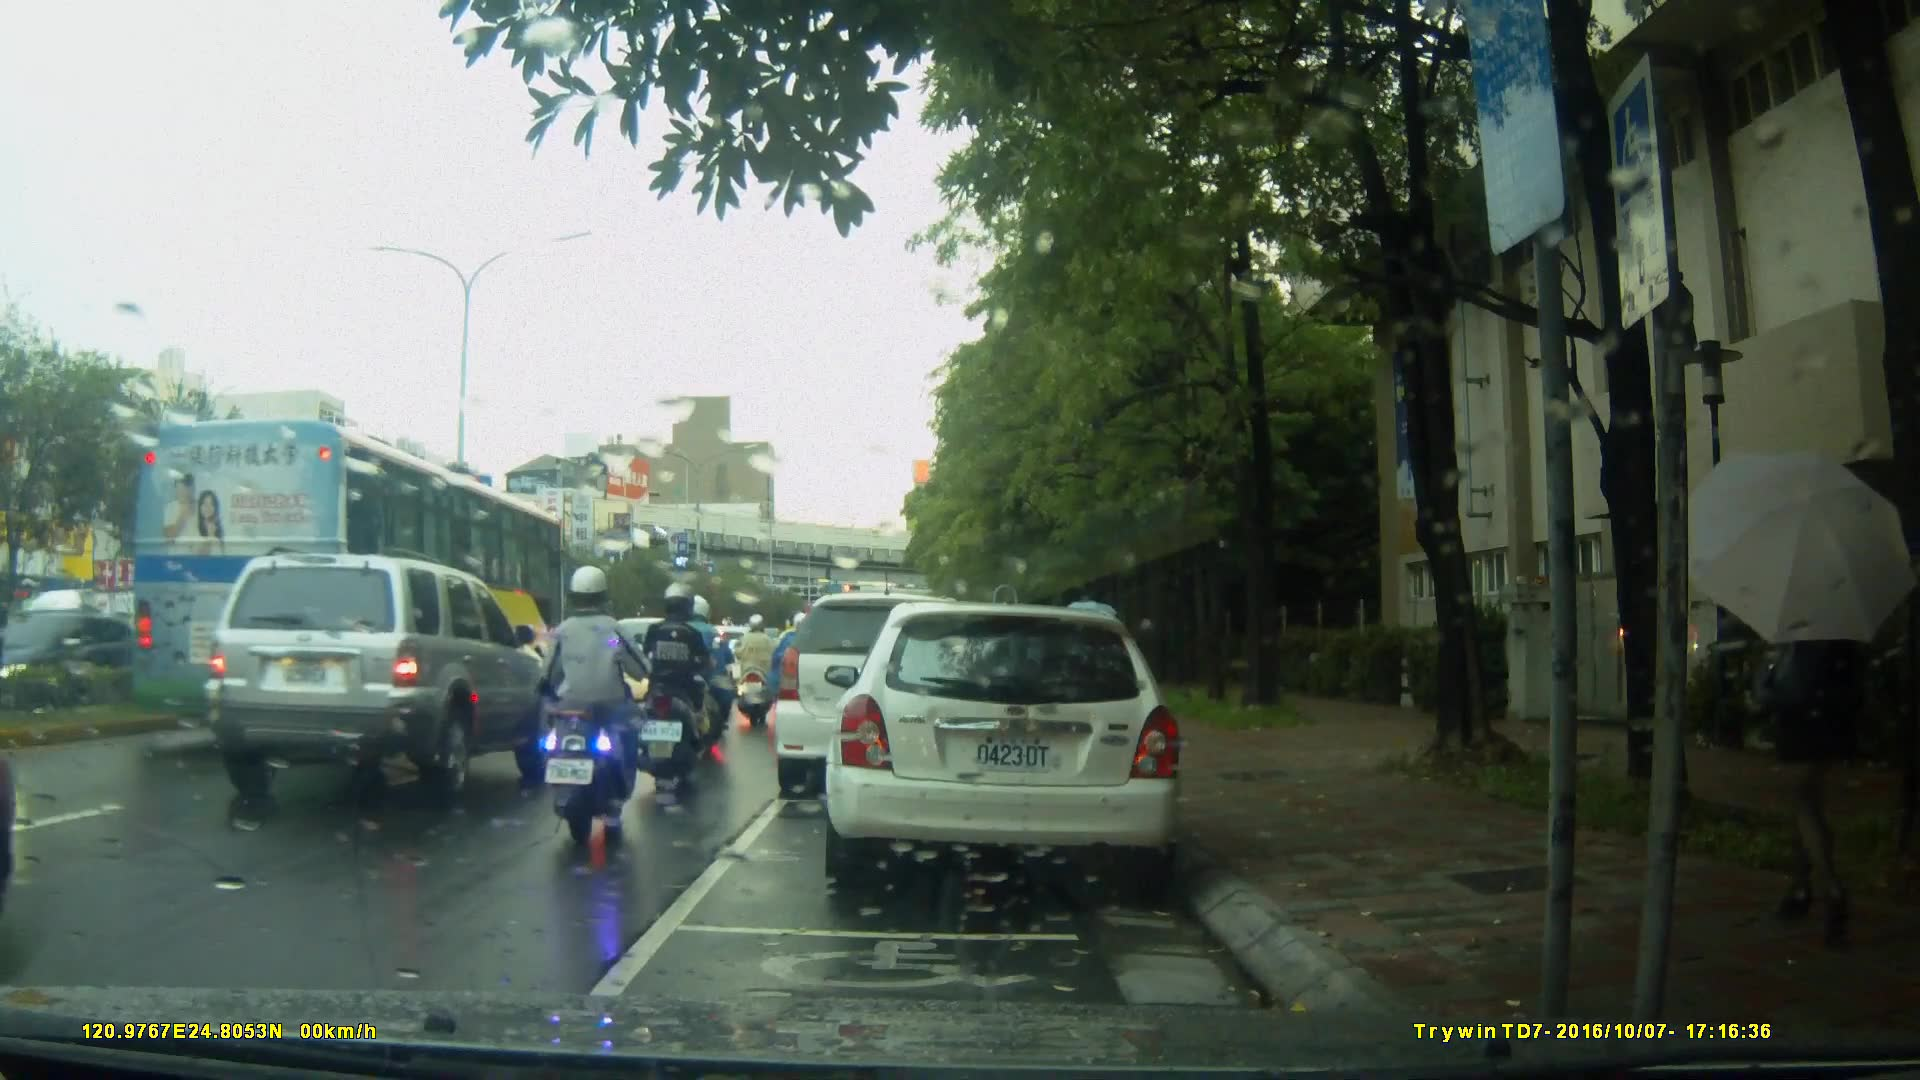pedestrian: (1737, 514, 1875, 932)
rider: (540, 563, 645, 835), (634, 579, 715, 801), (675, 593, 745, 748), (739, 610, 785, 732)
vehicle: (124, 415, 571, 742), (835, 594, 1194, 898), (199, 550, 558, 803), (776, 590, 1026, 784), (1, 611, 169, 714)
